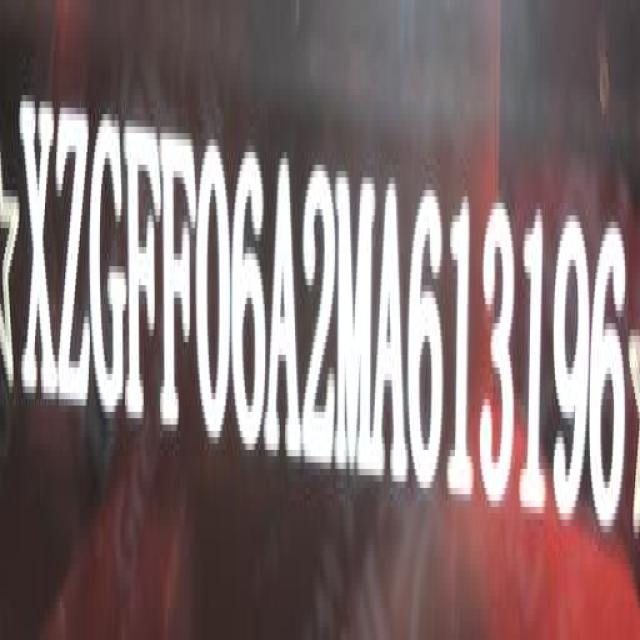0: (196, 129, 231, 441)
1: (447, 190, 474, 500), (522, 209, 547, 519)
2: (334, 160, 374, 478), (300, 134, 334, 472)
3: (477, 200, 515, 502)
6: (407, 169, 445, 505), (588, 205, 626, 538), (230, 148, 268, 453)
9: (553, 214, 590, 526)
A: (265, 136, 301, 462), (372, 176, 409, 493)
F: (158, 99, 198, 432), (124, 94, 160, 436)
G: (89, 103, 127, 418)
X: (19, 90, 57, 408)
Z: (54, 94, 90, 408)
